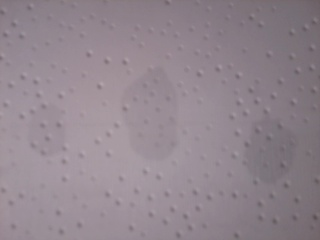Water_detected: (107, 75, 176, 158), (22, 102, 63, 155), (229, 122, 266, 164)
